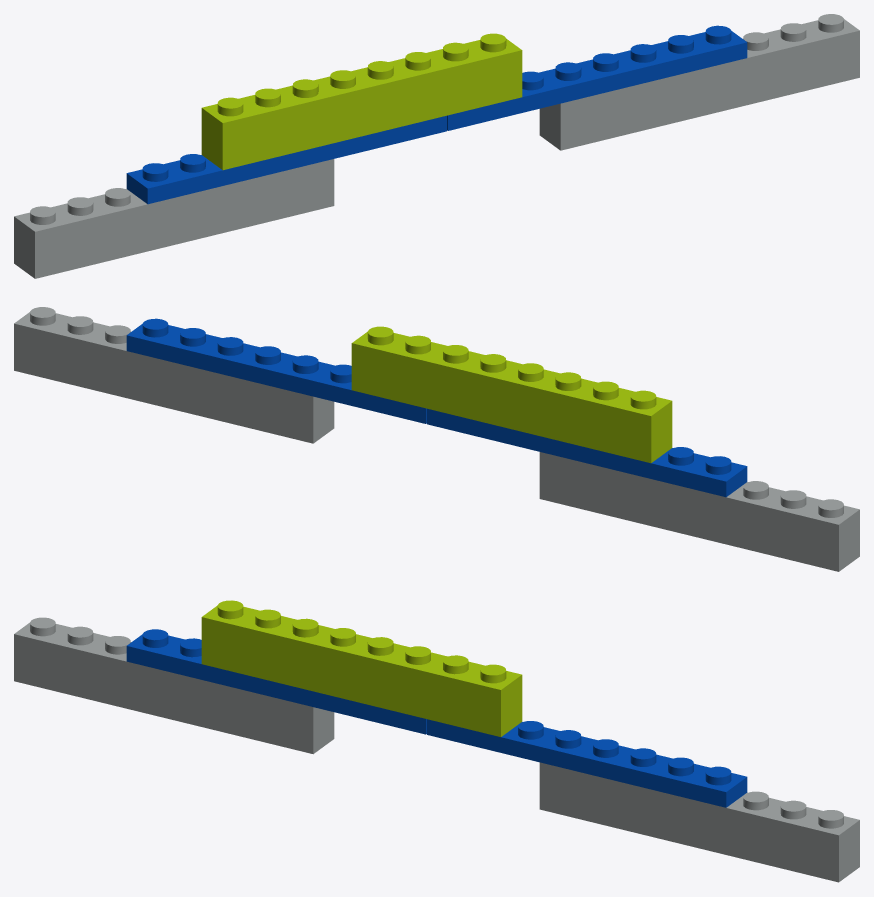
Rendered from best.glb.
3 renders of one model, top to bottom at view 1: azimuth 30°, elevation 25°; view 2: azimuth 150°, elevation 25°; view 3: azimuth 330°, elevation 25°, orthographic.
Parts seen in each view (by area): view 1: brick_004_brick_1x8, brick_000_brick_1x8, brick_002_brick_1x8, brick_003_plate_1x8, brick_001_plate_1x8; view 2: brick_004_brick_1x8, brick_000_brick_1x8, brick_002_brick_1x8, brick_003_plate_1x8, brick_001_plate_1x8; view 3: brick_004_brick_1x8, brick_002_brick_1x8, brick_000_brick_1x8, brick_003_plate_1x8, brick_001_plate_1x8.
Boxes of the visible parts, bbox=[...] form: brick_004_brick_1x8: bbox=[201, 33, 522, 170]; brick_000_brick_1x8: bbox=[14, 159, 334, 278]; brick_002_brick_1x8: bbox=[539, 14, 859, 150]; brick_003_plate_1x8: bbox=[447, 25, 747, 130]; brick_001_plate_1x8: bbox=[126, 115, 446, 204]; brick_004_brick_1x8: bbox=[351, 326, 672, 463]; brick_000_brick_1x8: bbox=[539, 452, 859, 571]; brick_002_brick_1x8: bbox=[14, 307, 334, 443]; brick_003_plate_1x8: bbox=[126, 318, 426, 423]; brick_001_plate_1x8: bbox=[427, 408, 747, 497]; brick_004_brick_1x8: bbox=[201, 600, 522, 736]; brick_002_brick_1x8: bbox=[539, 762, 859, 882]; brick_000_brick_1x8: bbox=[14, 617, 334, 754]; brick_003_plate_1x8: bbox=[427, 719, 747, 807]; brick_001_plate_1x8: bbox=[126, 629, 426, 734].
Size of the model in its own units: 0.1758 by 0.024 by 0.0078.
